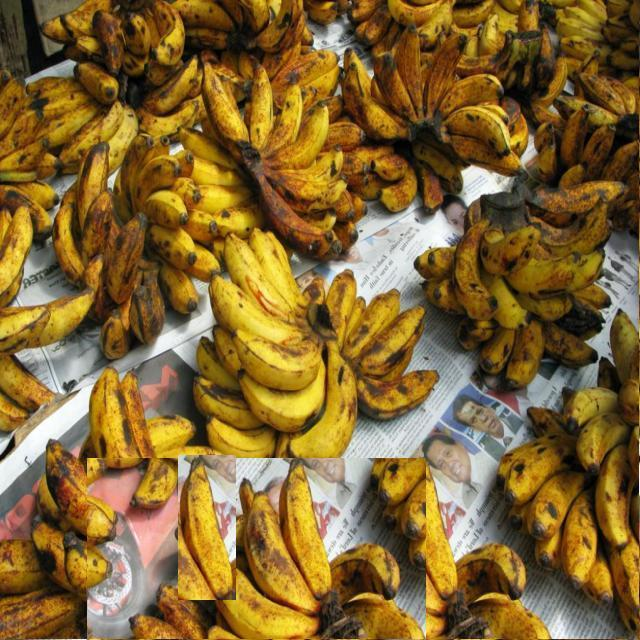Banana: (194, 226, 440, 464), (498, 306, 640, 634), (414, 182, 609, 385), (324, 22, 526, 216), (172, 58, 366, 256), (213, 459, 345, 640)
